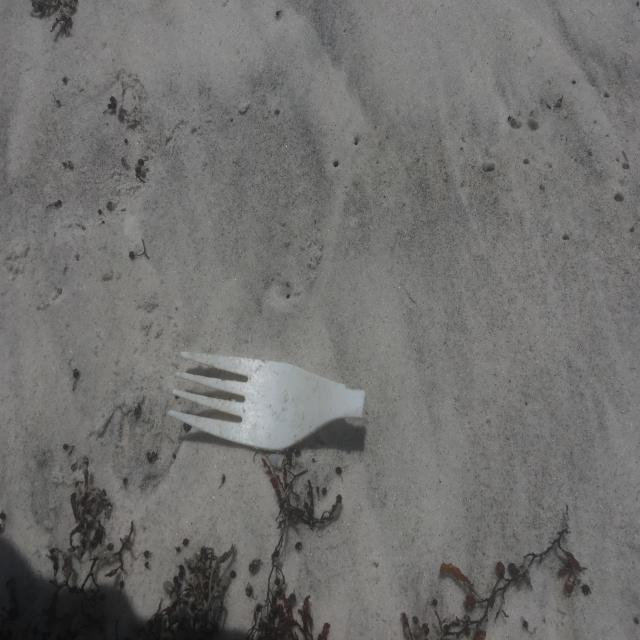litter: (277, 191, 474, 288)
